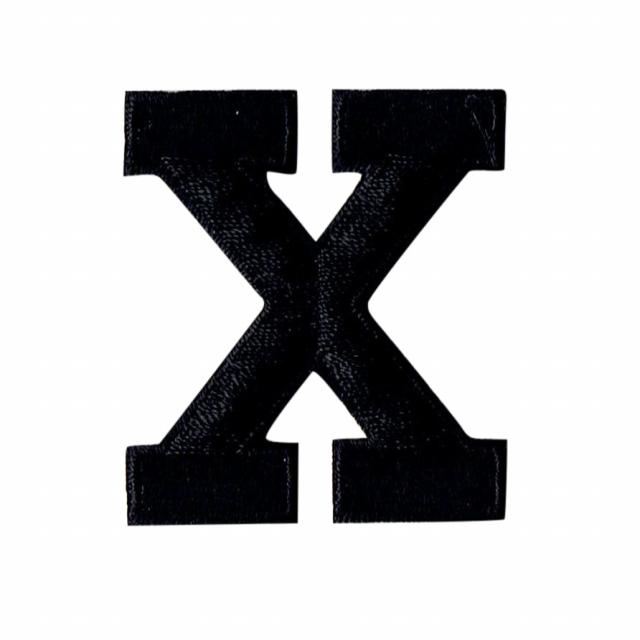X: (52, 48, 564, 562)
